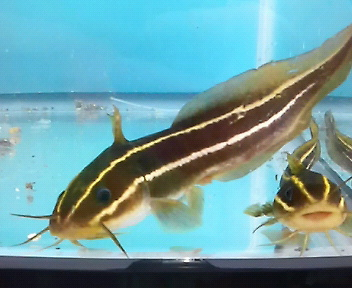gonzui: (26, 30, 352, 253)
